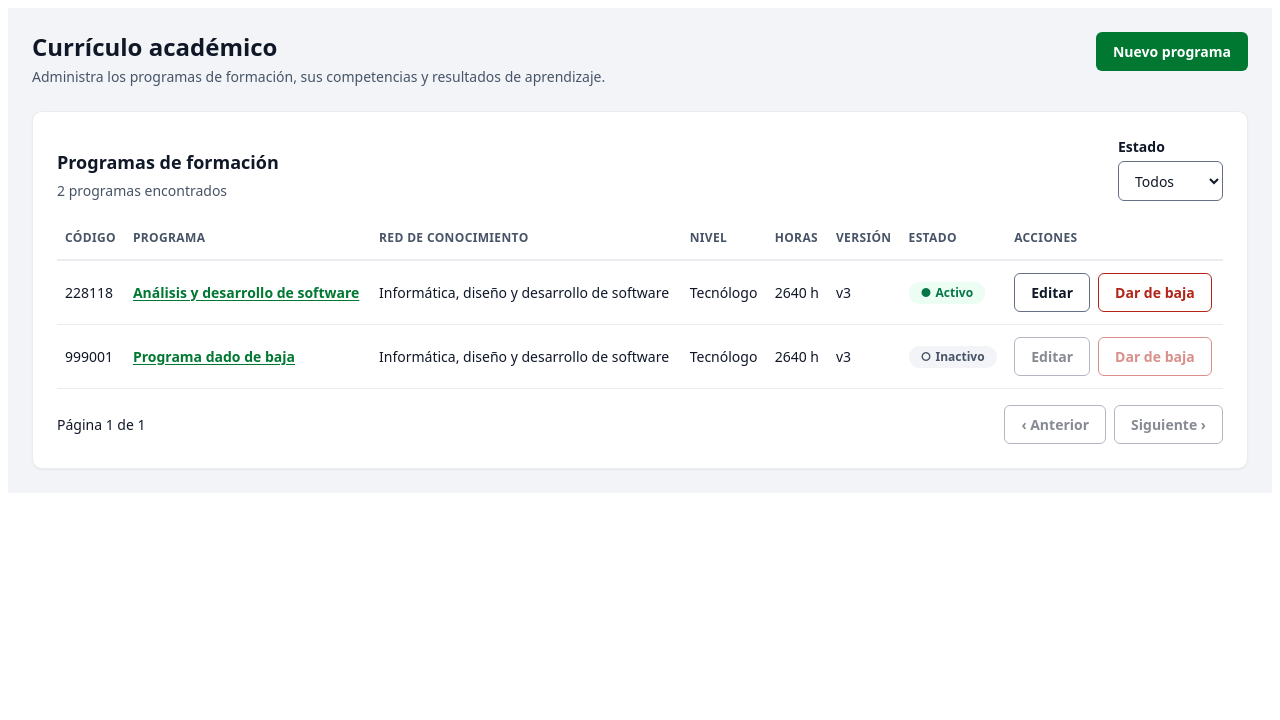
ProgramsPage › E1: no envía el formulario vacío y muestra los errores
The image size is (1280, 720).
Expected: the text "228118" is shown, [57,260,125,324]
Click the button "Nuevo programa" at [1172, 52], box [1096,32,1248,71]
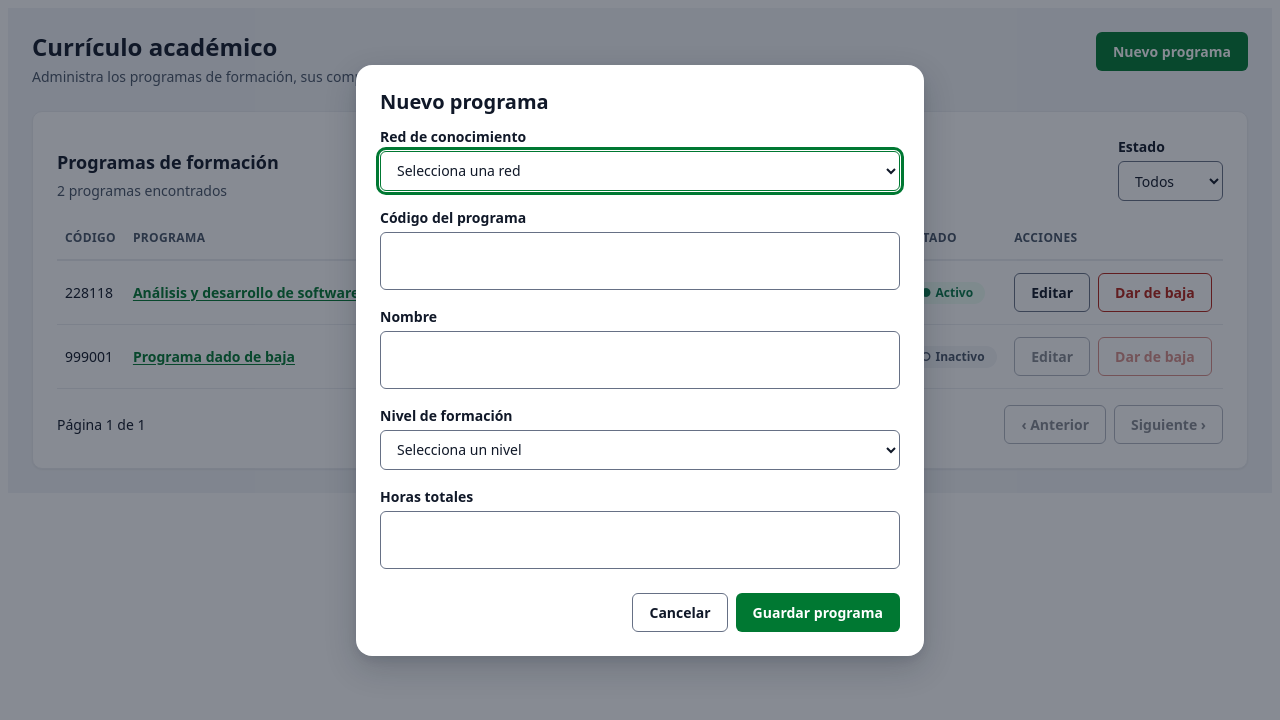
Click the button "Guardar programa" at [818, 612], box [736,592,900,632]
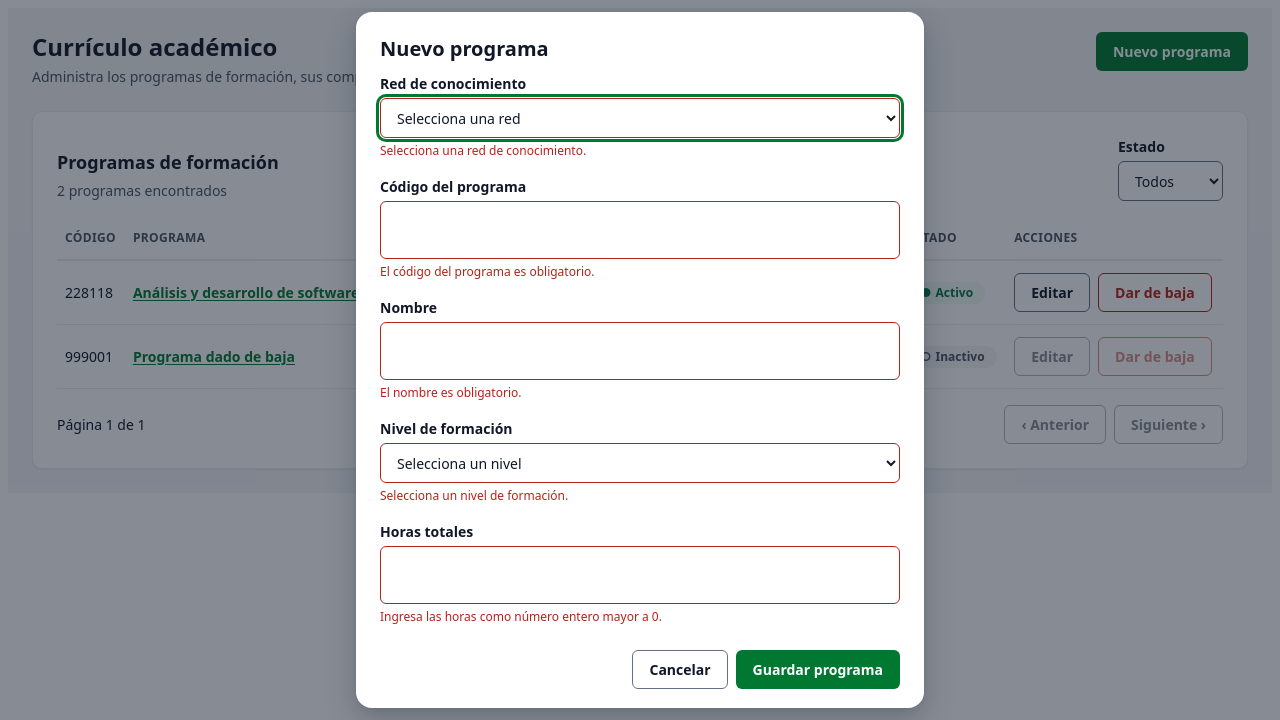
Expected: the text "El nombre es obligatorio." is shown, [380,384,522,401]
